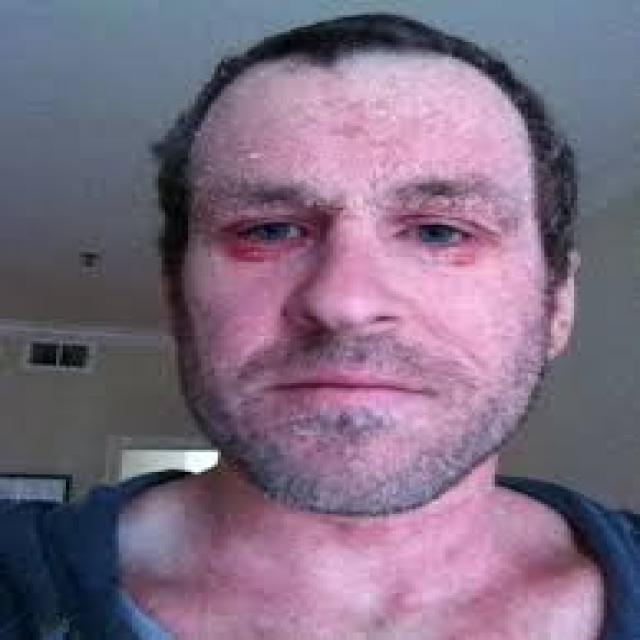burn: (120, 52, 607, 637)
